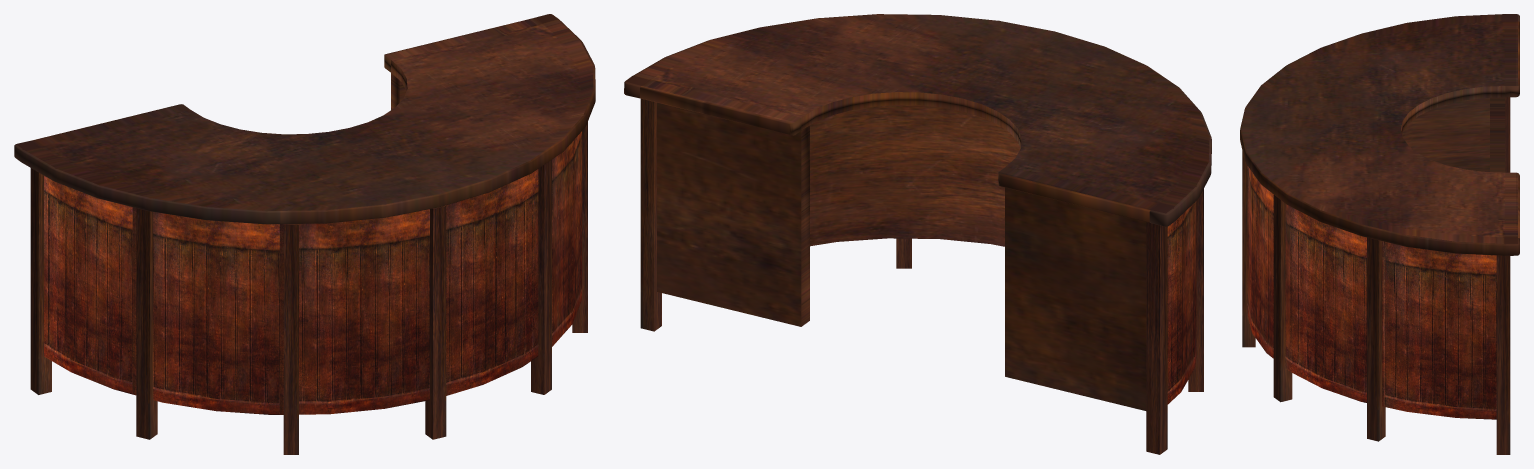
The model's file is mesa_semi_circulo.fbx.
The picture shows the model from 3 angles, left to right: view 1: azimuth 30°, elevation 25°; view 2: azimuth 150°, elevation 25°; view 3: azimuth 270°, elevation 25°; orthographic projection. The views are drawn at different scales.
Parts seen in each view (by area): view 1: Cilindro; view 2: Cilindro; view 3: Cilindro.
Boxes of the visible parts, bbox=[...] form: Cilindro: bbox=[14, 14, 595, 454]; Cilindro: bbox=[624, 14, 1211, 454]; Cilindro: bbox=[1240, 14, 1519, 454].
Size of the model in its own units: 1101 by 478 by 562.
2 materials, 2 textured.
